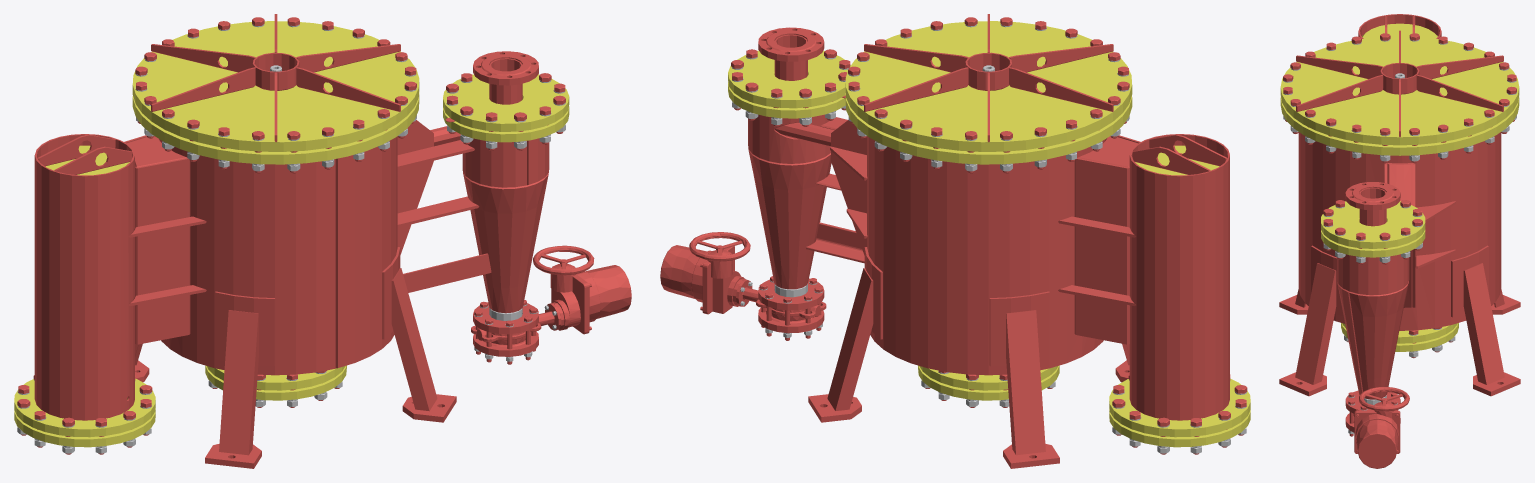
The model's file is ovgd-pp.glb.
3 views of the same model, side by side, from view 1: azimuth 30°, elevation 25°; view 2: azimuth 150°, elevation 25°; view 3: azimuth 270°, elevation 25° (orthographic). The views are drawn at different scales.
Visible parts, largest first — view 1: Фильтр 109; view 2: Фильтр 109; view 3: Фильтр 109.
Boxes of the visible parts, left/top/right/bottom form: Фильтр 109: left=14, top=14, right=631, bottom=468; Фильтр 109: left=660, top=14, right=1250, bottom=468; Фильтр 109: left=1279, top=14, right=1520, bottom=468.
Size of the model in its own units: 2.18 by 1.18 by 0.9416.
